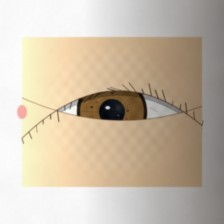pterygium_lesion: (23, 96, 63, 128)
